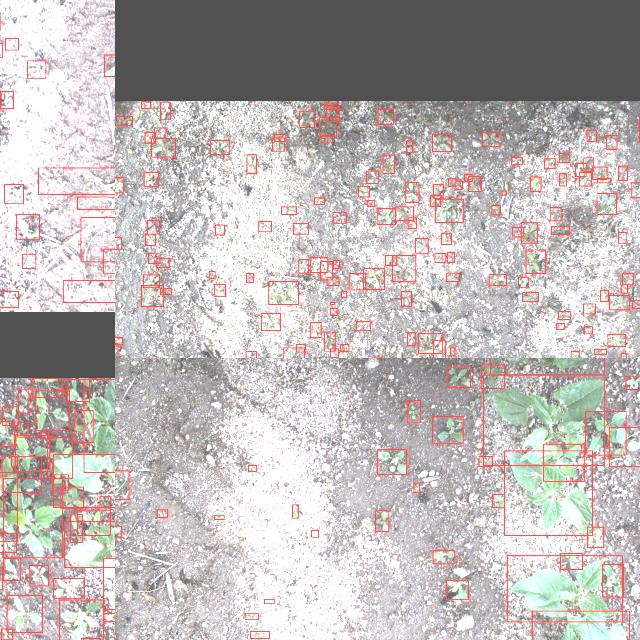crop: (482, 374, 604, 466), (506, 556, 622, 622), (504, 450, 592, 536), (52, 454, 115, 508), (83, 378, 115, 472), (531, 610, 628, 640), (63, 521, 115, 567), (490, 358, 604, 375), (102, 558, 115, 610)
weed: (2, 478, 62, 558), (38, 168, 115, 194), (59, 600, 103, 640), (585, 411, 625, 455), (80, 217, 115, 262), (543, 444, 583, 481), (1, 456, 41, 492), (35, 390, 69, 430), (6, 596, 42, 632), (15, 435, 50, 471), (608, 428, 640, 467), (0, 472, 17, 542), (62, 281, 115, 303), (46, 437, 72, 478), (76, 510, 110, 534), (432, 416, 462, 442), (376, 450, 406, 474), (602, 564, 622, 598), (434, 198, 462, 222), (268, 282, 298, 304), (52, 578, 84, 598), (15, 214, 39, 240), (74, 410, 92, 442), (392, 255, 414, 281), (31, 378, 61, 397), (481, 364, 504, 388), (66, 379, 90, 401), (76, 196, 115, 209), (59, 487, 82, 508), (525, 249, 545, 273), (417, 334, 441, 354), (362, 268, 383, 290), (446, 367, 469, 387), (141, 286, 163, 306), (446, 580, 468, 600), (151, 138, 175, 156), (596, 193, 616, 214), (28, 566, 48, 586), (115, 470, 128, 499), (3, 558, 20, 580), (4, 184, 22, 204), (260, 313, 280, 331), (318, 116, 336, 136), (559, 553, 581, 569), (70, 514, 82, 542), (0, 420, 13, 445), (27, 61, 46, 78), (520, 222, 536, 242), (2, 406, 18, 426), (587, 527, 603, 547), (102, 249, 115, 273), (432, 550, 454, 564), (432, 134, 451, 150), (374, 511, 388, 532), (0, 291, 18, 307), (349, 272, 365, 290), (376, 208, 394, 224), (406, 400, 419, 422), (0, 533, 15, 552), (609, 296, 629, 310), (17, 388, 28, 412), (377, 108, 393, 124), (298, 111, 314, 127), (52, 474, 68, 490), (481, 132, 499, 146), (395, 206, 413, 220), (310, 258, 328, 272), (210, 140, 228, 154), (104, 54, 115, 76), (406, 182, 418, 202), (320, 260, 332, 280), (143, 274, 159, 288), (624, 375, 640, 389), (607, 334, 625, 346), (488, 274, 506, 286), (433, 340, 445, 358), (282, 348, 303, 358), (382, 154, 393, 173), (0, 91, 12, 108), (22, 254, 36, 268), (414, 238, 428, 252), (144, 172, 158, 186), (146, 220, 160, 234), (292, 222, 308, 234), (326, 106, 338, 122), (324, 332, 334, 351), (246, 154, 256, 173), (592, 167, 606, 180), (160, 101, 170, 119), (579, 172, 591, 186), (468, 176, 480, 190), (492, 494, 504, 508), (522, 292, 538, 302), (550, 226, 570, 234), (530, 176, 540, 192), (310, 322, 320, 338), (5, 38, 18, 50), (366, 170, 378, 183), (630, 182, 640, 197), (574, 164, 586, 176), (213, 284, 225, 296), (272, 138, 284, 150), (115, 115, 131, 124), (98, 496, 110, 508), (0, 628, 12, 640), (606, 135, 616, 149), (583, 157, 593, 171), (550, 207, 560, 221), (400, 292, 410, 306), (298, 259, 308, 273), (332, 212, 346, 222), (432, 184, 442, 198), (17, 422, 27, 436), (478, 456, 492, 466), (280, 206, 296, 214), (355, 322, 369, 331), (583, 304, 595, 314), (622, 273, 632, 285), (586, 129, 596, 141), (446, 272, 458, 282), (441, 233, 451, 245), (384, 255, 396, 265), (258, 221, 270, 231), (153, 127, 165, 137), (148, 253, 160, 263), (156, 258, 168, 268), (145, 234, 155, 246), (249, 632, 269, 638), (618, 166, 626, 180), (407, 332, 415, 346), (115, 177, 122, 193), (430, 196, 440, 207), (358, 186, 368, 197), (558, 172, 566, 185), (559, 152, 569, 162), (544, 158, 554, 168), (518, 277, 528, 287), (512, 227, 522, 237), (144, 132, 154, 142), (104, 613, 115, 622), (558, 312, 570, 320), (600, 290, 608, 302), (434, 254, 446, 262), (326, 277, 338, 285), (156, 509, 168, 517), (490, 204, 500, 213), (214, 225, 223, 235), (511, 157, 522, 165), (321, 135, 332, 143), (324, 103, 338, 109), (292, 504, 298, 518), (244, 614, 258, 620), (617, 232, 625, 242), (446, 252, 454, 262), (330, 348, 338, 358), (407, 218, 415, 228), (274, 133, 284, 141), (454, 180, 462, 190), (631, 301, 640, 309), (339, 344, 348, 352), (406, 140, 412, 152), (39, 432, 51, 438), (115, 526, 121, 538), (245, 351, 255, 358), (314, 198, 324, 205), (115, 236, 120, 249), (296, 344, 304, 352), (583, 326, 591, 334), (447, 178, 455, 186), (310, 530, 318, 538), (140, 102, 150, 108), (160, 288, 170, 294), (11, 456, 17, 466), (570, 351, 578, 358), (596, 178, 610, 182), (245, 274, 252, 282), (464, 173, 472, 180), (115, 337, 122, 344), (593, 350, 605, 354), (556, 323, 564, 329), (620, 285, 626, 293), (330, 308, 336, 316), (340, 290, 346, 298), (333, 260, 339, 268), (366, 200, 374, 206), (248, 465, 256, 471), (414, 482, 418, 492), (214, 516, 224, 520), (264, 600, 274, 604), (208, 272, 214, 278), (450, 348, 454, 356), (115, 343, 117, 358), (620, 353, 625, 358), (500, 191, 506, 195), (330, 302, 334, 304)
